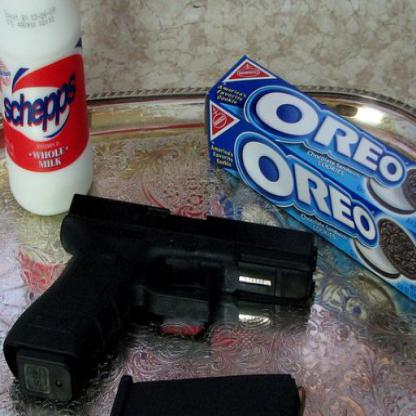gun: (5, 195, 320, 394)
